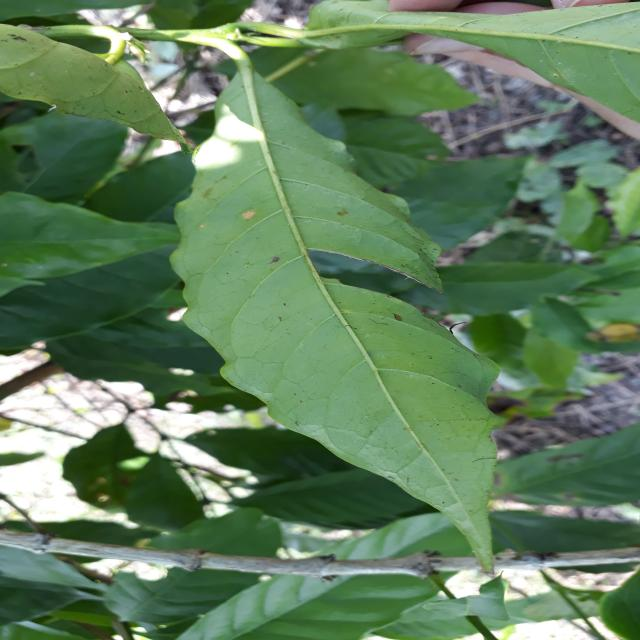Enfermedad-Roya: (169, 61, 510, 570)
